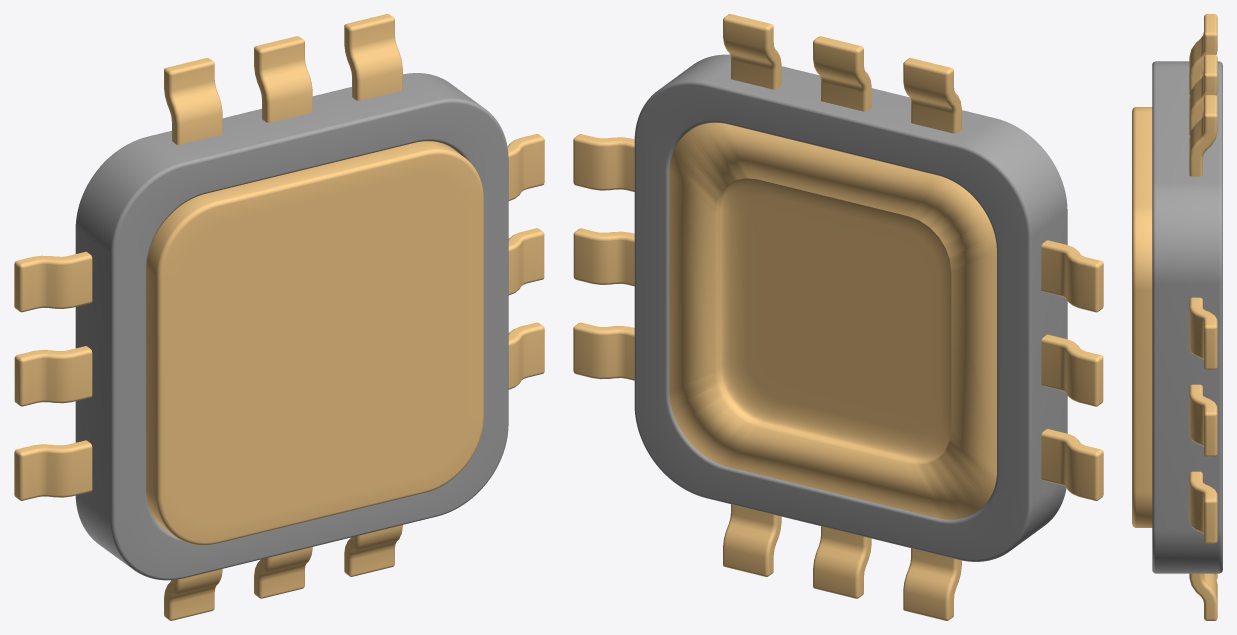
The model's file is processor_cpu_3d_cartoon.glb.
3 views of the same model, side by side, from view 1: azimuth 30°, elevation 25°; view 2: azimuth 150°, elevation 25°; view 3: azimuth 270°, elevation 25° (orthographic). The views are drawn at different scales.
Parts seen in each view (by area): view 1: Plane.053_1, Plane.051_5, Plane.056_4, Plane.052_0, Plane.055_3, Plane.054_2; view 2: Plane.053_1, Plane.051_5, Plane.052_0, Plane.056_4, Plane.055_3, Plane.054_2; view 3: Plane.051_5, Plane.053_1, Plane.054_2, Plane.052_0, Plane.055_3.
Part boxes in pixels (x1,y1,x2,y2): Plane.053_1: [146, 141, 483, 545]; Plane.051_5: [75, 73, 508, 580]; Plane.056_4: [14, 251, 92, 500]; Plane.052_0: [164, 14, 402, 144]; Plane.055_3: [164, 525, 402, 620]; Plane.054_2: [507, 134, 544, 389]; Plane.053_1: [669, 123, 996, 519]; Plane.051_5: [634, 54, 1067, 561]; Plane.052_0: [723, 14, 961, 133]; Plane.056_4: [1041, 240, 1103, 500]; Plane.055_3: [723, 504, 961, 620]; Plane.054_2: [573, 134, 634, 380]; Plane.051_5: [1152, 61, 1222, 573]; Plane.053_1: [1132, 107, 1152, 527]; Plane.054_2: [1189, 297, 1217, 543]; Plane.052_0: [1189, 14, 1217, 176]; Plane.055_3: [1189, 573, 1217, 620].
Size of the model in its own units: 7.35 by 7.35 by 1.19.
